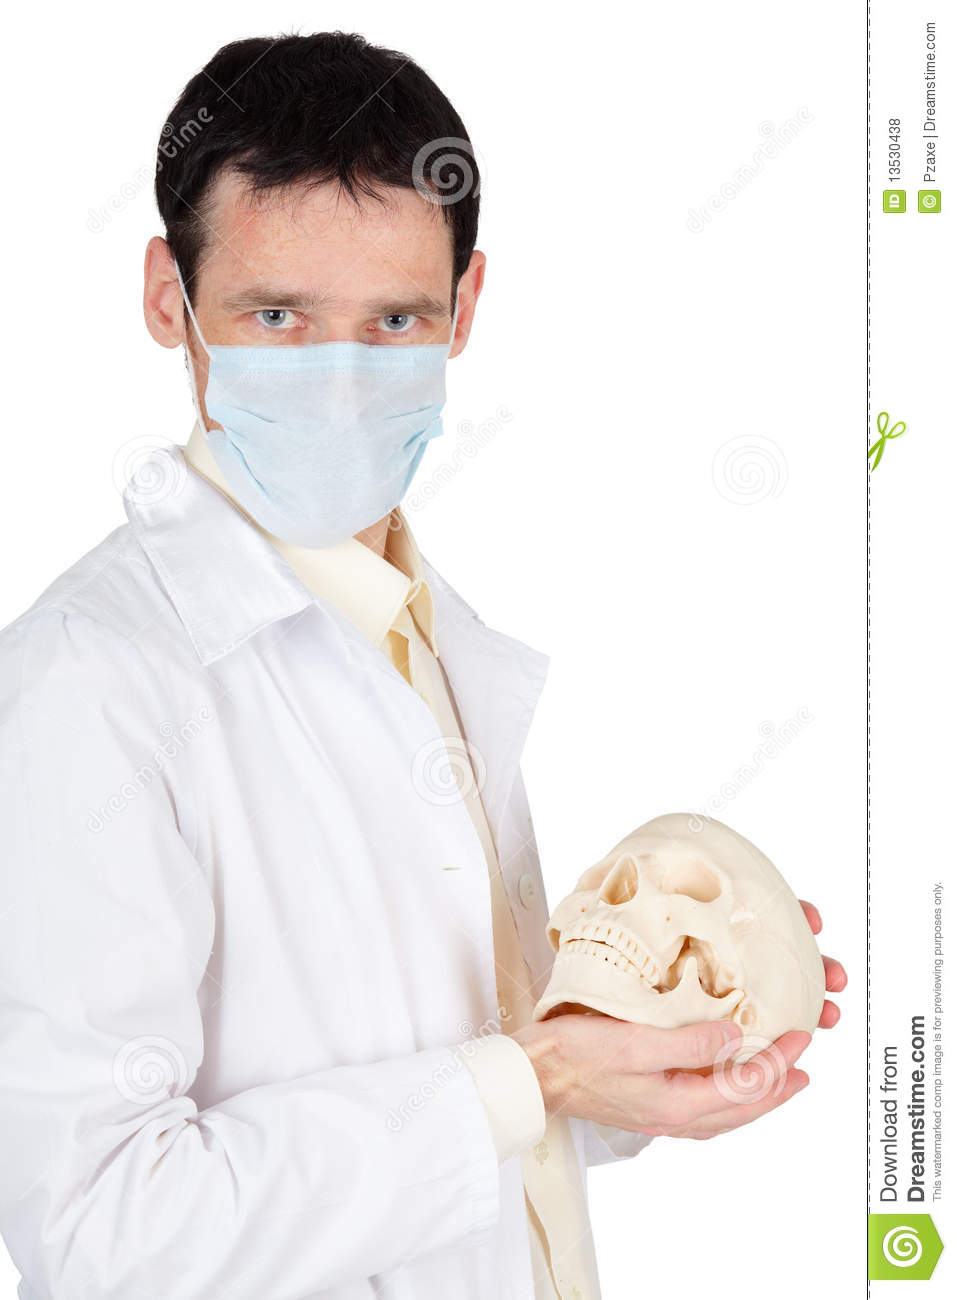mask: (194, 347, 458, 555)
